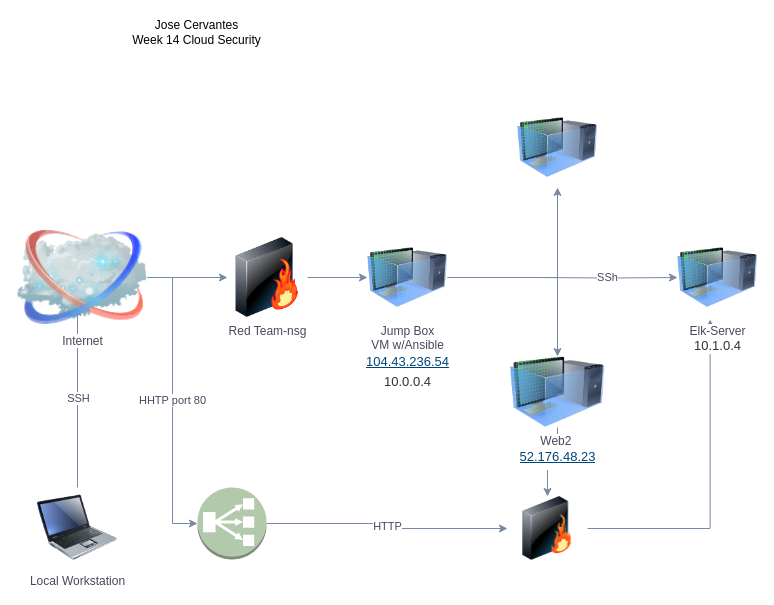
The diagram is 774 pixels wide and 605 high, and some of its shapes have lost their labels. The shapes that lost their labels are listed below. From the top down, each one's box as (x1, y1, x2, y2) in pixels, then its label:
(517, 107, 597, 187): Web 1 52.176.48.239 10.0.0.5 DVWA
(196, 486, 266, 560): Red Team Load Balancer
(507, 496, 587, 560): Elk-Server-nsg
